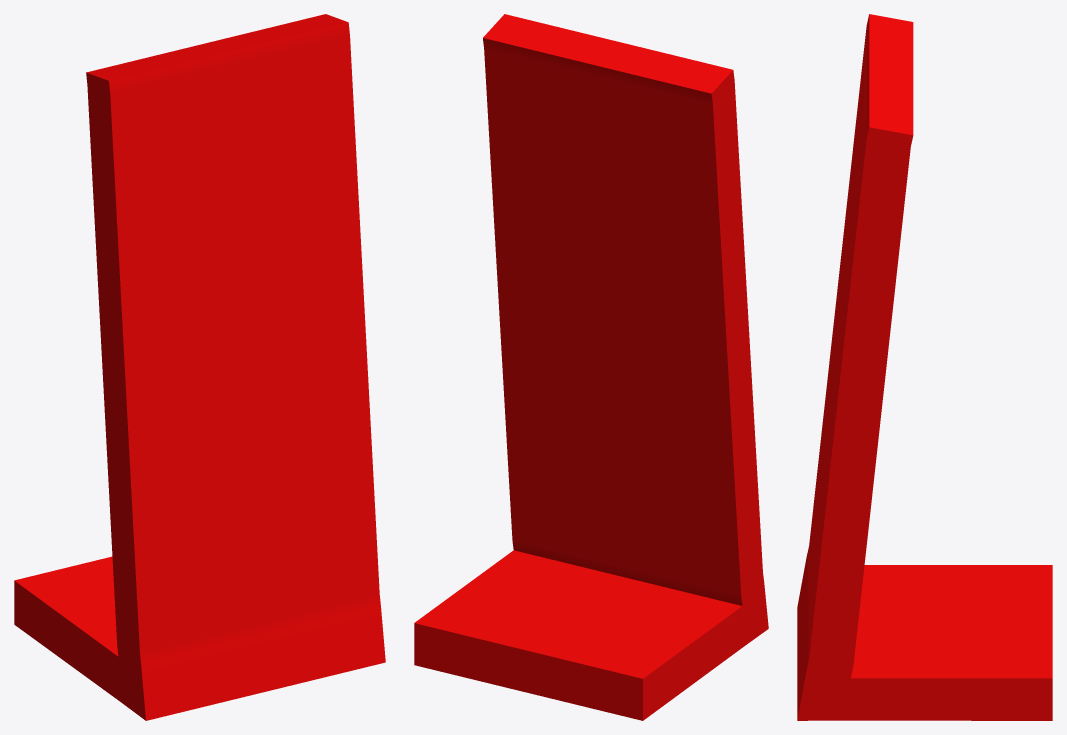
The model's file is display_box_box_02.gltf.
3 views of the same model, side by side, from view 1: azimuth 30°, elevation 25°; view 2: azimuth 150°, elevation 25°; view 3: azimuth 270°, elevation 25° (orthographic). The views are drawn at different scales.
Visible parts, largest first — view 1: Model; view 2: Model; view 3: Model.
Boxes of the visible parts, box(x1,y1,x2,y2) form: Model: box(14, 14, 385, 720); Model: box(414, 14, 768, 720); Model: box(797, 14, 1052, 720).
Bounding box in the file's own units: 1.66 × 4.05 × 1.58.
